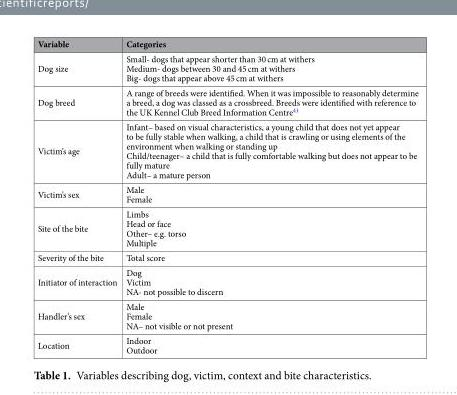table: (36, 37, 417, 355)
table column: (120, 37, 417, 355), (36, 37, 120, 355)
table column header: (36, 37, 417, 50)
table row: (36, 119, 417, 181), (36, 206, 417, 249), (36, 84, 417, 119), (36, 50, 417, 84), (36, 264, 417, 298), (36, 298, 417, 332), (36, 181, 417, 206), (36, 332, 417, 355), (36, 249, 417, 264), (36, 37, 417, 50)
